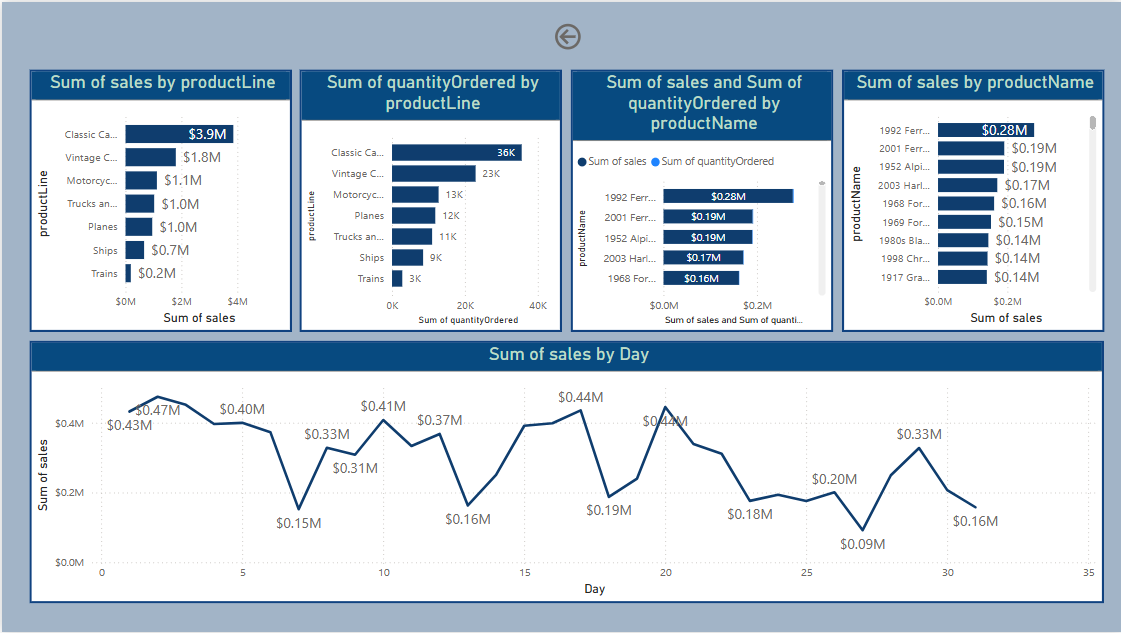

What the dashboard file says about the page in this screenshot:
{"tool":"powerbi","page":{"name":"detail view","canvas":[1280,720],"ordinal":2},"visuals":[{"type":"actionButton","box":[627,20.3,45.9,39.2],"z":0},{"type":"barChart","fields":{"Category":["productlines.productLine"],"Y":["Sum(order_details.sales)"]},"box":[31.1,77,300,300],"z":1000},{"type":"barChart","fields":{"Category":["productlines.productLine"],"Y":["Sum(order_details.quantityOrdered)"]},"box":[340.5,77,300,300],"z":2000},{"type":"barChart","fields":{"Category":["products.productName"],"Y":["Sum(order_details.sales)"]},"box":[959.5,77,300,300],"z":3000},{"type":"barChart","fields":{"Category":["products.productName"],"Y":["Sum(order_details.sales)","Sum(order_details.quantityOrdered)"]},"box":[650,77,300,300],"z":4000},{"type":"lineChart","fields":{"Category":["orders.orderDate.Variation.Date Hierarchy.Year","orders.orderDate.Variation.Date Hierarchy.Quarter","orders.orderDate.Variation.Date Hierarchy.Month","orders.orderDate.Variation.Date Hierarchy.Day"],"Y":["Sum(order_details.sales)"]},"box":[31.1,386.5,1228.4,300],"z":5000}]}

Visuals, with their boxes in screenshot pixels (x1, y1, x2, y2), scaled from the page's 1280x720 canvas onto the 1121x633 screenshot:
actionButton: select_region(549, 18, 589, 52)
barChart - productlines.productLine x Sum(order_details.sales): select_region(27, 68, 290, 331)
barChart - productlines.productLine x Sum(order_details.quantityOrdered): select_region(298, 68, 561, 331)
barChart - products.productName x Sum(order_details.sales): select_region(840, 68, 1103, 331)
barChart - products.productName x Sum(order_details.sales): select_region(569, 68, 832, 331)
lineChart - orders.orderDate.Variation.Date Hierarchy.Year x orders.orderDate.Variation.Date Hierarchy.Quarter: select_region(27, 340, 1103, 604)
